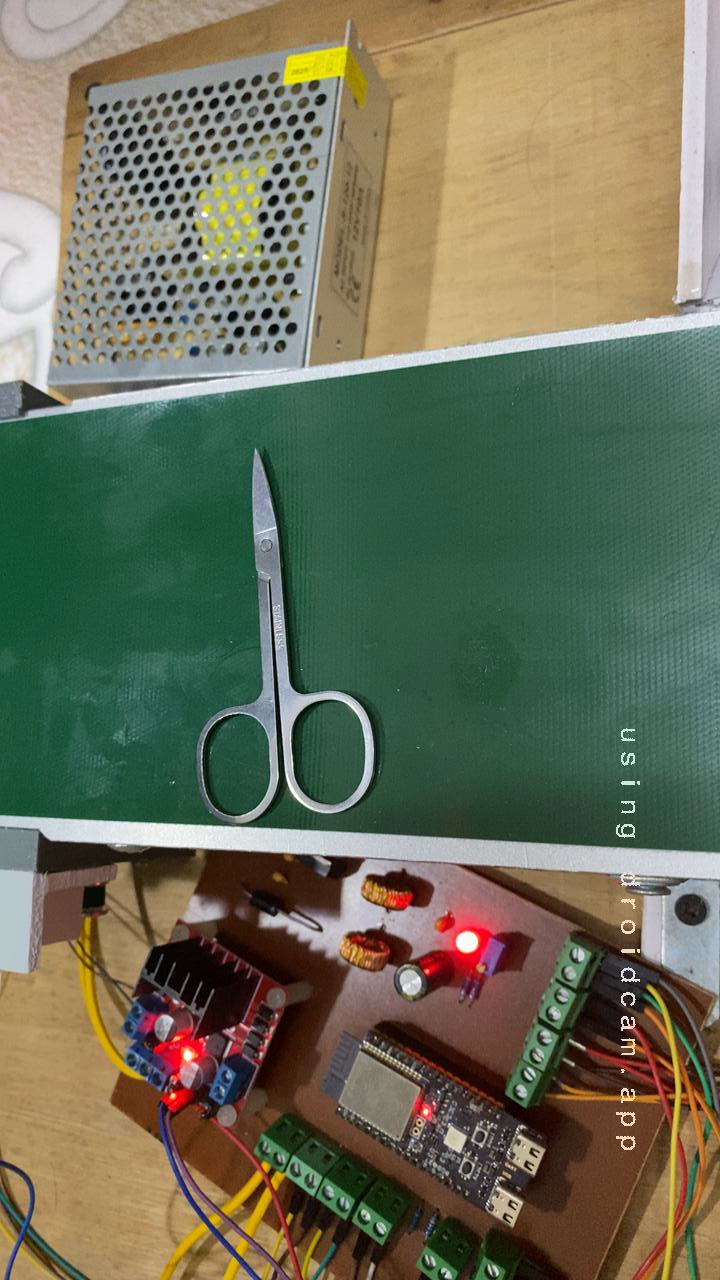scissor: (123, 428, 403, 836)
